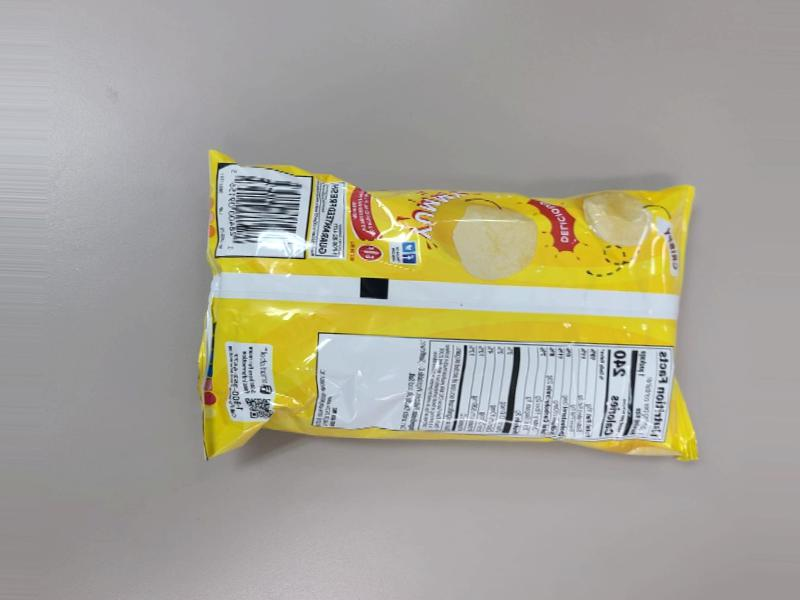lays: (191, 183, 726, 450)
